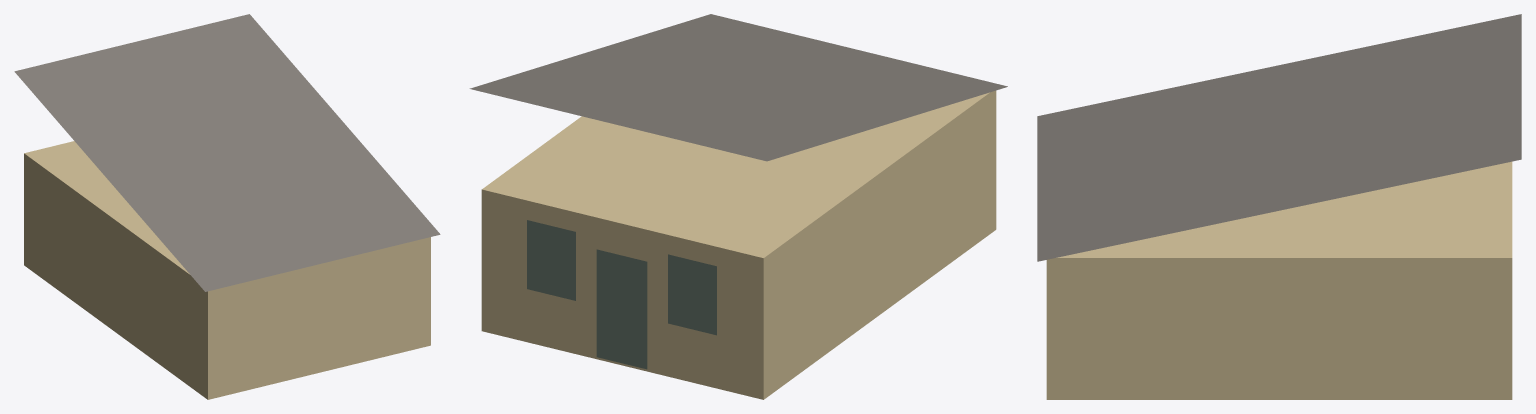
File: recon_1835_north_d2_014__recommended_1835.glb
3 views of the same model, side by side, from view 1: azimuth 30°, elevation 25°; view 2: azimuth 150°, elevation 25°; view 3: azimuth 270°, elevation 25° (orthographic). The views are drawn at different scales.
Parts seen in each view (by area): view 1: recon_1835_north_d2_014__recommended_1835; view 2: recon_1835_north_d2_014__recommended_1835; view 3: recon_1835_north_d2_014__recommended_1835.
Part boxes in pixels (x1,y1,x2,y2): recon_1835_north_d2_014__recommended_1835: (14, 14, 440, 399); recon_1835_north_d2_014__recommended_1835: (469, 14, 1007, 399); recon_1835_north_d2_014__recommended_1835: (1037, 14, 1521, 399).
Bounding box in the file's own units: 4.51 × 3.53 × 6.34.
